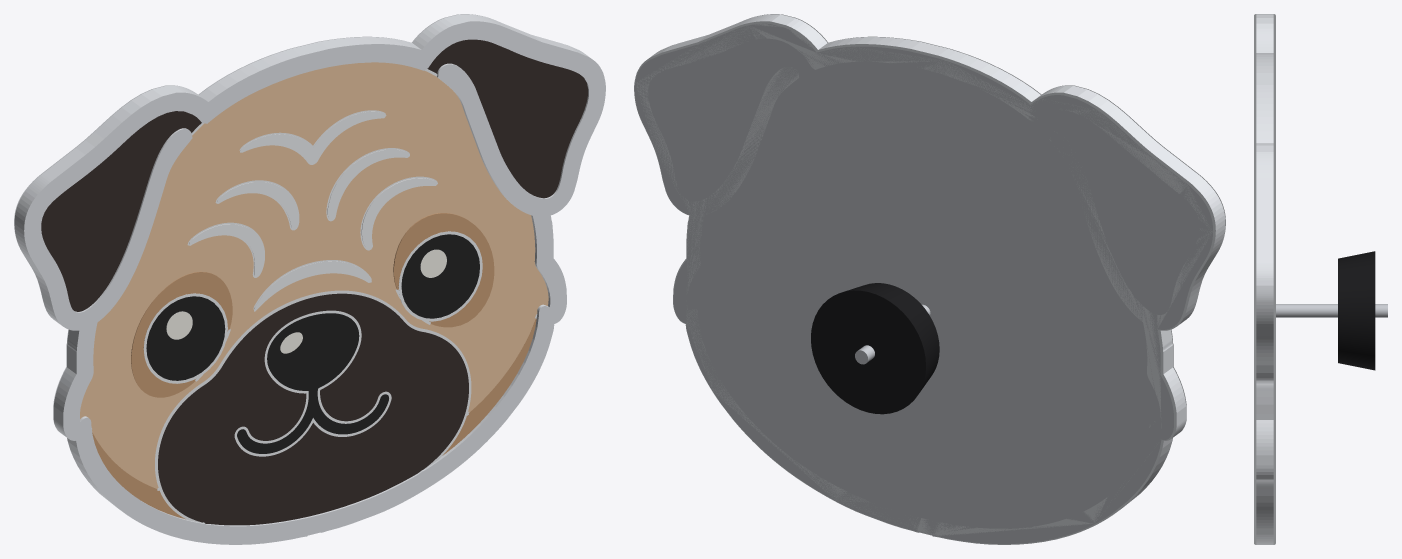
File: pug.glb
3 renders of one model, left to right at view 1: azimuth 30°, elevation 25°; view 2: azimuth 150°, elevation 25°; view 3: azimuth 270°, elevation 25°, orthographic. The views are drawn at different scales.
Parts seen in each view (by area): view 1: enamel_01_st2, silver_border, enamel_18_st5, enamel_21_st6, enamel_22_st6, enamel_19_st1, enamel_11_st1, enamel_15_st1, enamel_10_st7, enamel_14_st7, silver_line_01, silver_line_19 (+11 smaller); view 2: base_plate, silver_border, rubber_clutch; view 3: silver_border, rubber_clutch, pin_post.
Part boxes in pixels (bbox=[...]): enamel_01_st2: bbox=[80, 62, 548, 488]; silver_border: bbox=[14, 14, 605, 544]; enamel_18_st5: bbox=[158, 293, 468, 525]; enamel_21_st6: bbox=[427, 39, 587, 198]; enamel_22_st6: bbox=[41, 111, 201, 311]; enamel_19_st1: bbox=[237, 313, 388, 453]; enamel_11_st1: bbox=[146, 296, 225, 380]; enamel_15_st1: bbox=[401, 234, 479, 318]; enamel_10_st7: bbox=[131, 271, 232, 397]; enamel_14_st7: bbox=[393, 213, 494, 327]; silver_line_01: bbox=[155, 110, 469, 487]; silver_line_19: bbox=[234, 310, 391, 456]; base_plate: bbox=[634, 23, 1212, 543]; silver_border: bbox=[634, 14, 1225, 544]; rubber_clutch: bbox=[811, 283, 939, 414]; silver_border: bbox=[1254, 14, 1275, 544]; rubber_clutch: bbox=[1338, 251, 1375, 370]; pin_post: bbox=[1276, 304, 1387, 317].
Size of the model in its own units: 0.0484 by 0.0383 by 0.0107.
